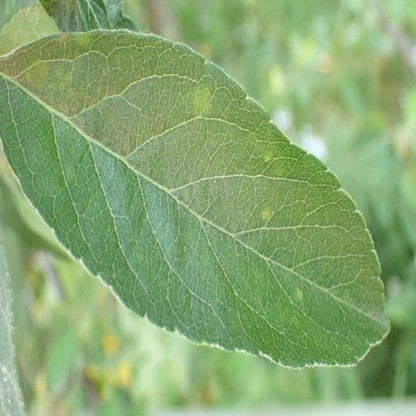powdery_mildew: (363, 305, 388, 326)
scab: (192, 85, 211, 121), (27, 58, 48, 85), (56, 67, 72, 90), (74, 32, 90, 46), (343, 288, 351, 303), (296, 287, 304, 299), (264, 151, 273, 161), (263, 209, 271, 219)
